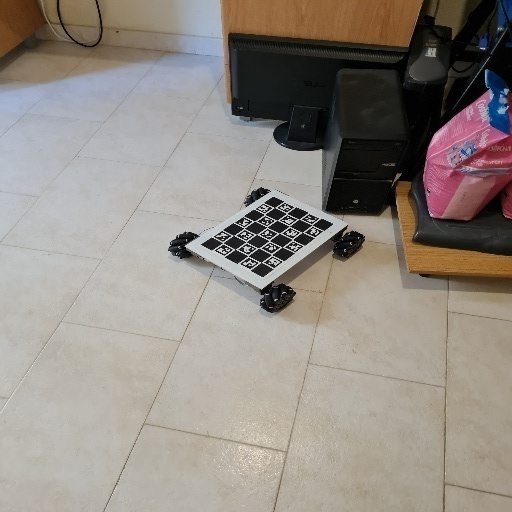Omniwheel: (167, 187, 366, 314)
